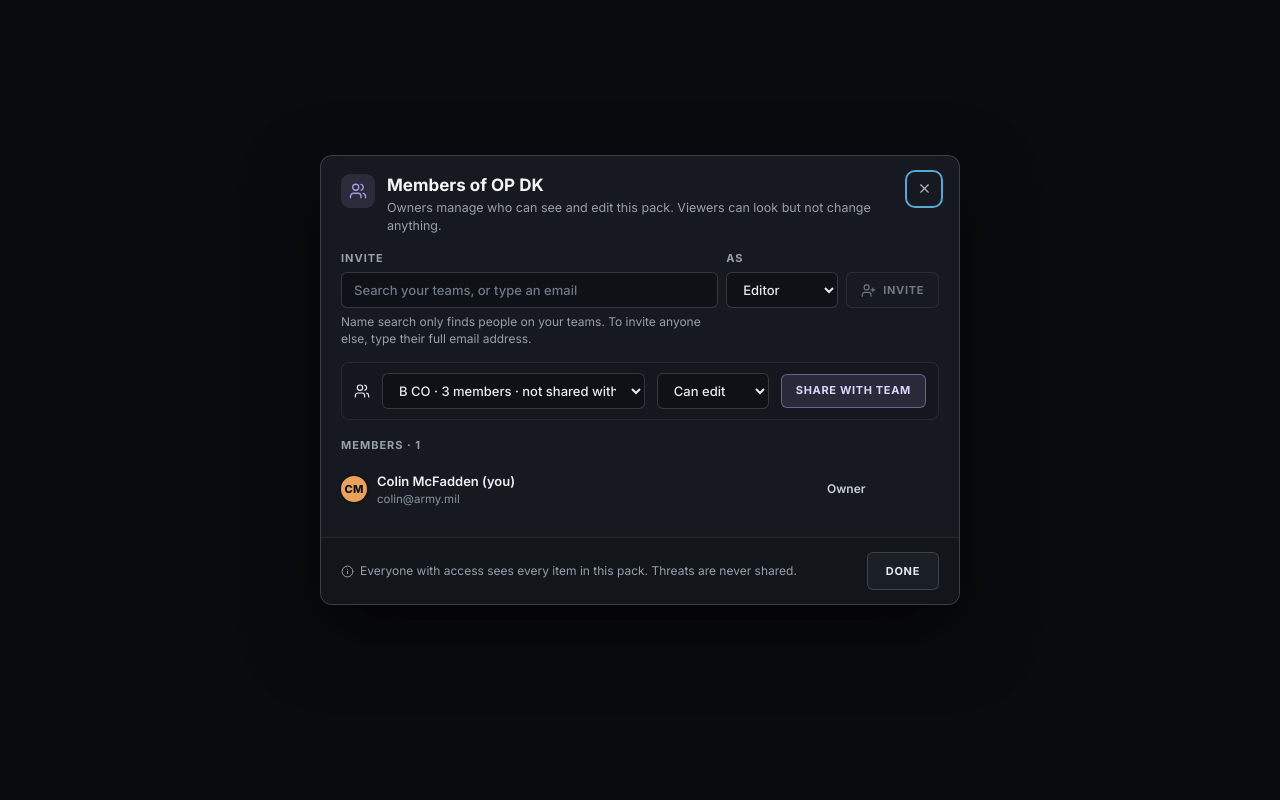
Scenario: sharing a pack with a team › shares with a team to view only, as a new pack can be
The image size is (1280, 800).
Select "Can view" in the dropdown named "What the team can do" at {"x": 713, "y": 391}, box [657, 373, 769, 409]
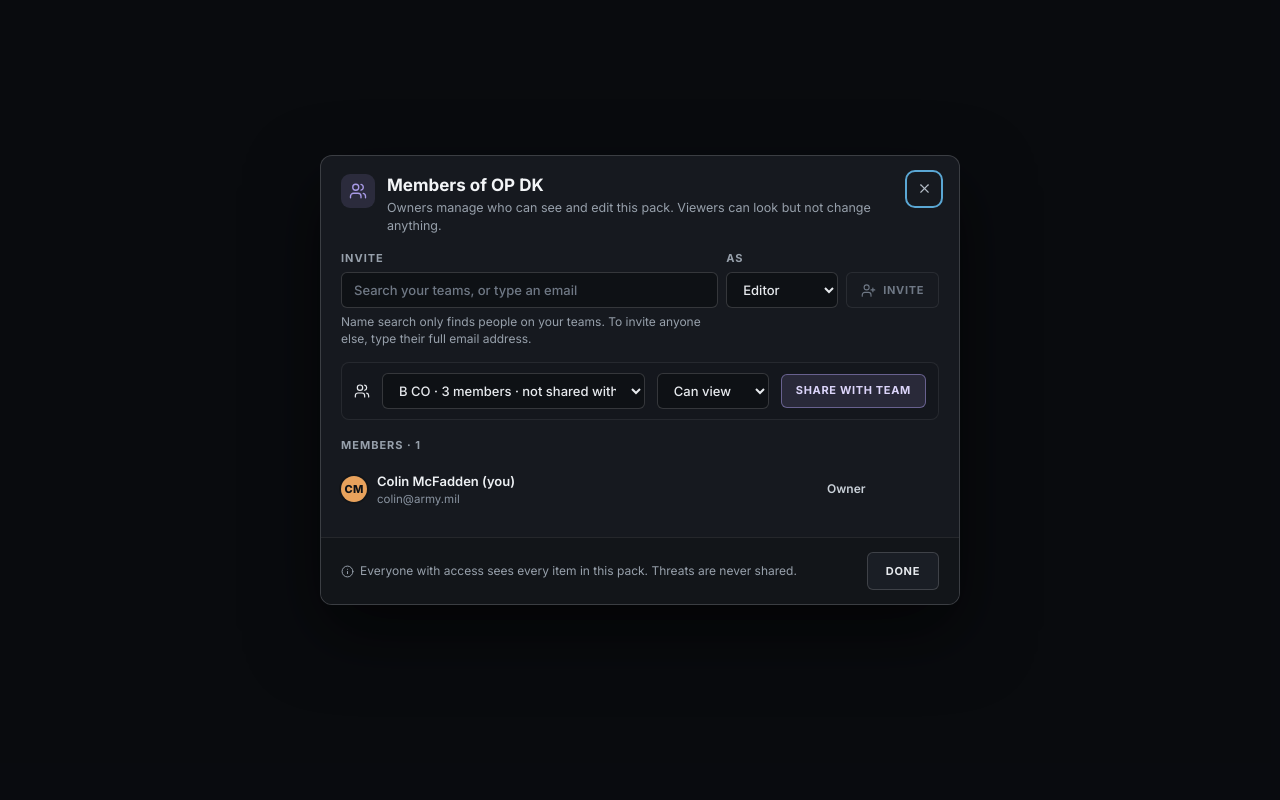
Click the button "Share with team" at {"x": 853, "y": 391}, box [781, 374, 926, 408]
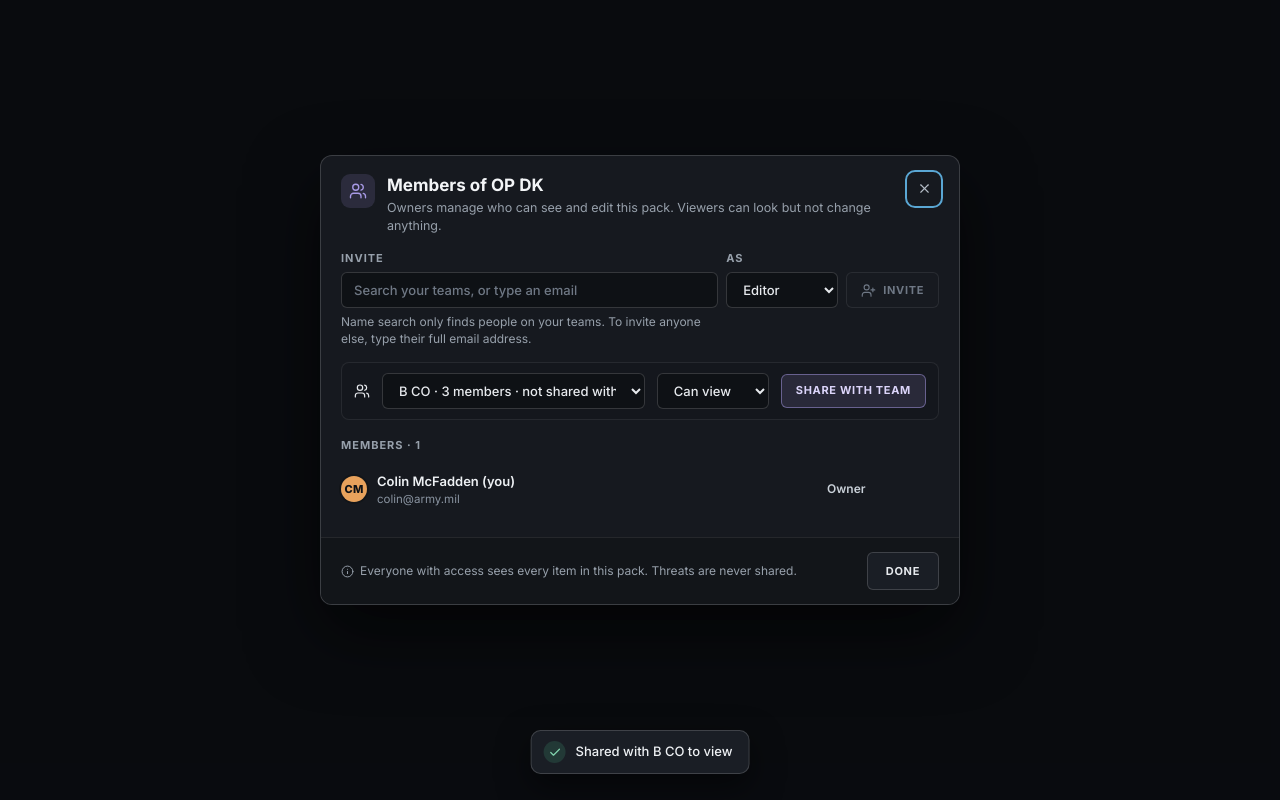
Result: the text "Shared with B CO to view" is shown at [576, 743, 732, 759]
